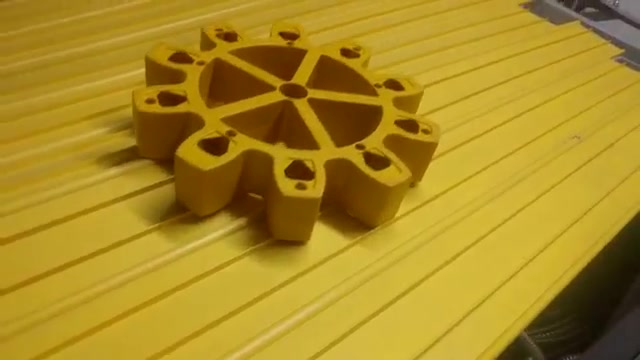gear: (125, 6, 448, 269)
